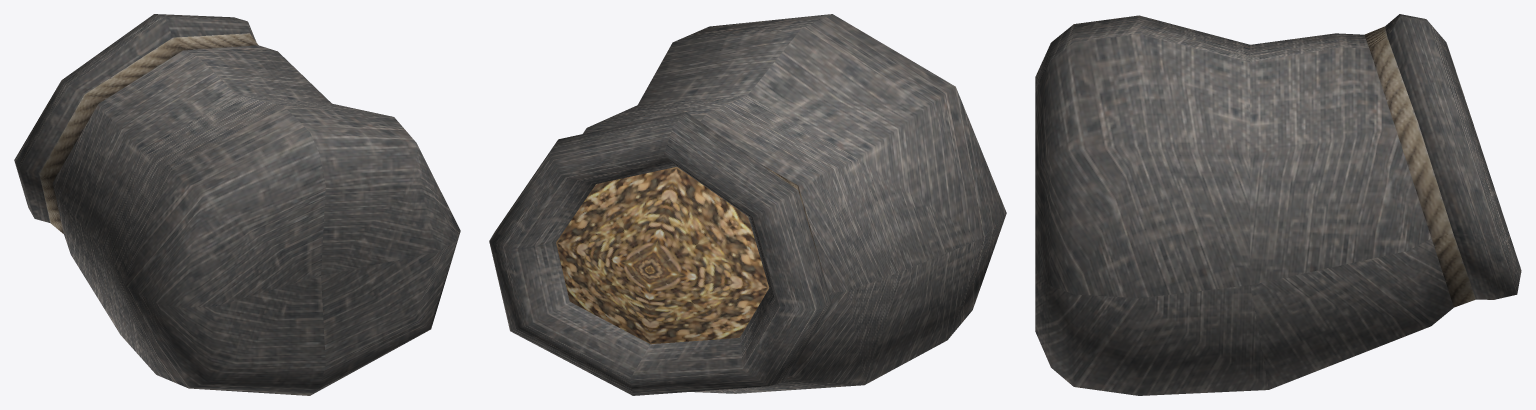
The model's file is Bag_Open_B.fbx.
3 views of the same model, side by side, from view 1: azimuth 30°, elevation 25°; view 2: azimuth 150°, elevation 25°; view 3: azimuth 270°, elevation 25° (orthographic). The views are drawn at different scales.
Visible parts, largest first — view 1: Bag_Open_B; view 2: Bag_Open_B; view 3: Bag_Open_B.
Part boxes in pixels (<box>): Bag_Open_B: <box>14,14,460,395</box>; Bag_Open_B: <box>489,14,1006,395</box>; Bag_Open_B: <box>1035,14,1521,395</box>.
Size of the model in its own units: 1.02 by 0.8936 by 1.14.
